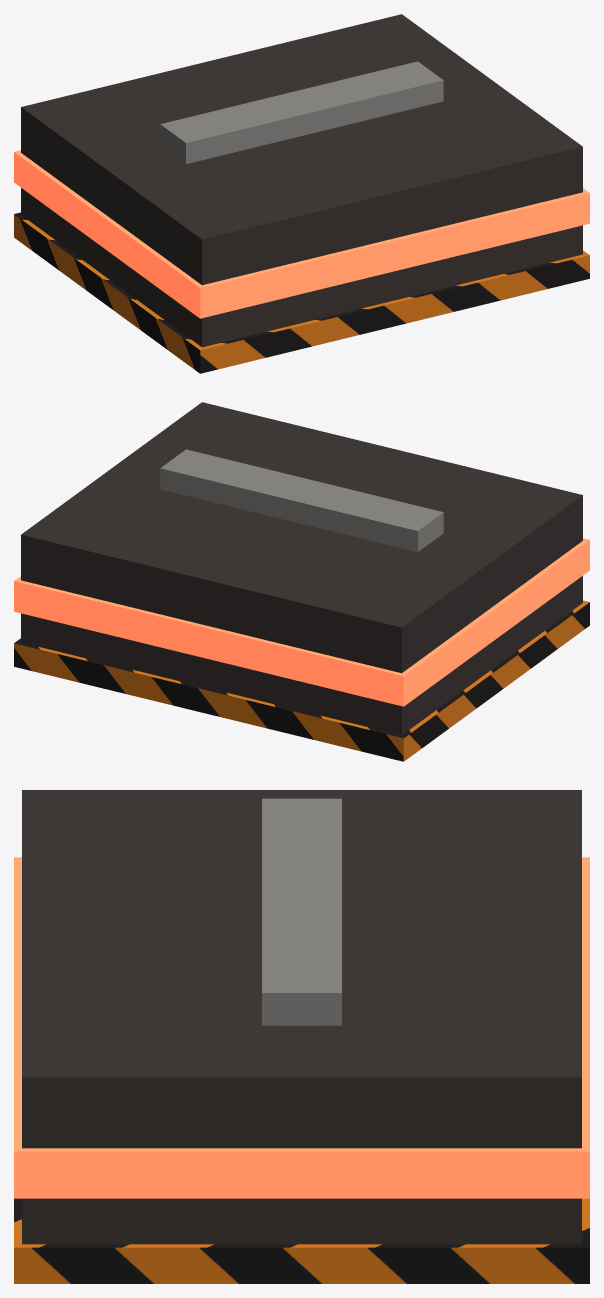
File: vymenik-baterie-vybita.glb
3 views of the same model, one above another, from view 1: azimuth 30°, elevation 25°; view 2: azimuth 150°, elevation 25°; view 3: azimuth 270°, elevation 25° (orthographic). The views are drawn at different scales.
Parts seen in each view (by area): view 1: vymenik-baterie-vybita; view 2: vymenik-baterie-vybita; view 3: vymenik-baterie-vybita.
Boxes of the visible parts, x1=… form: vymenik-baterie-vybita: x1=14, y1=14, x2=589, y2=373; vymenik-baterie-vybita: x1=14, y1=402, x2=589, y2=761; vymenik-baterie-vybita: x1=14, y1=790, x2=589, y2=1283.
Size of the model in its own units: 2 by 0.7648 by 1.66.
Materials: 5 (1 with a texture image).
